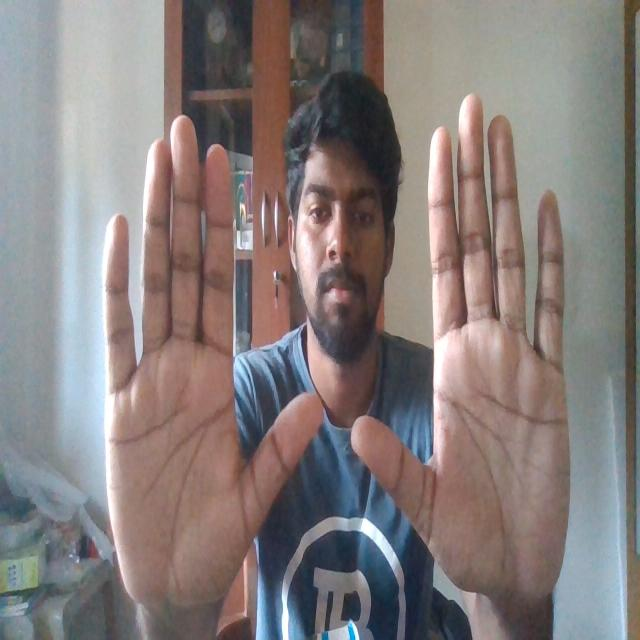ThankYou: (99, 87, 582, 612)
